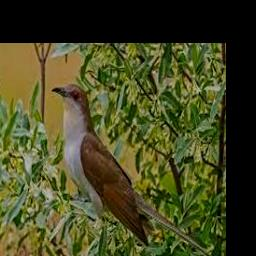Cuckoo: (50, 83, 220, 256)
